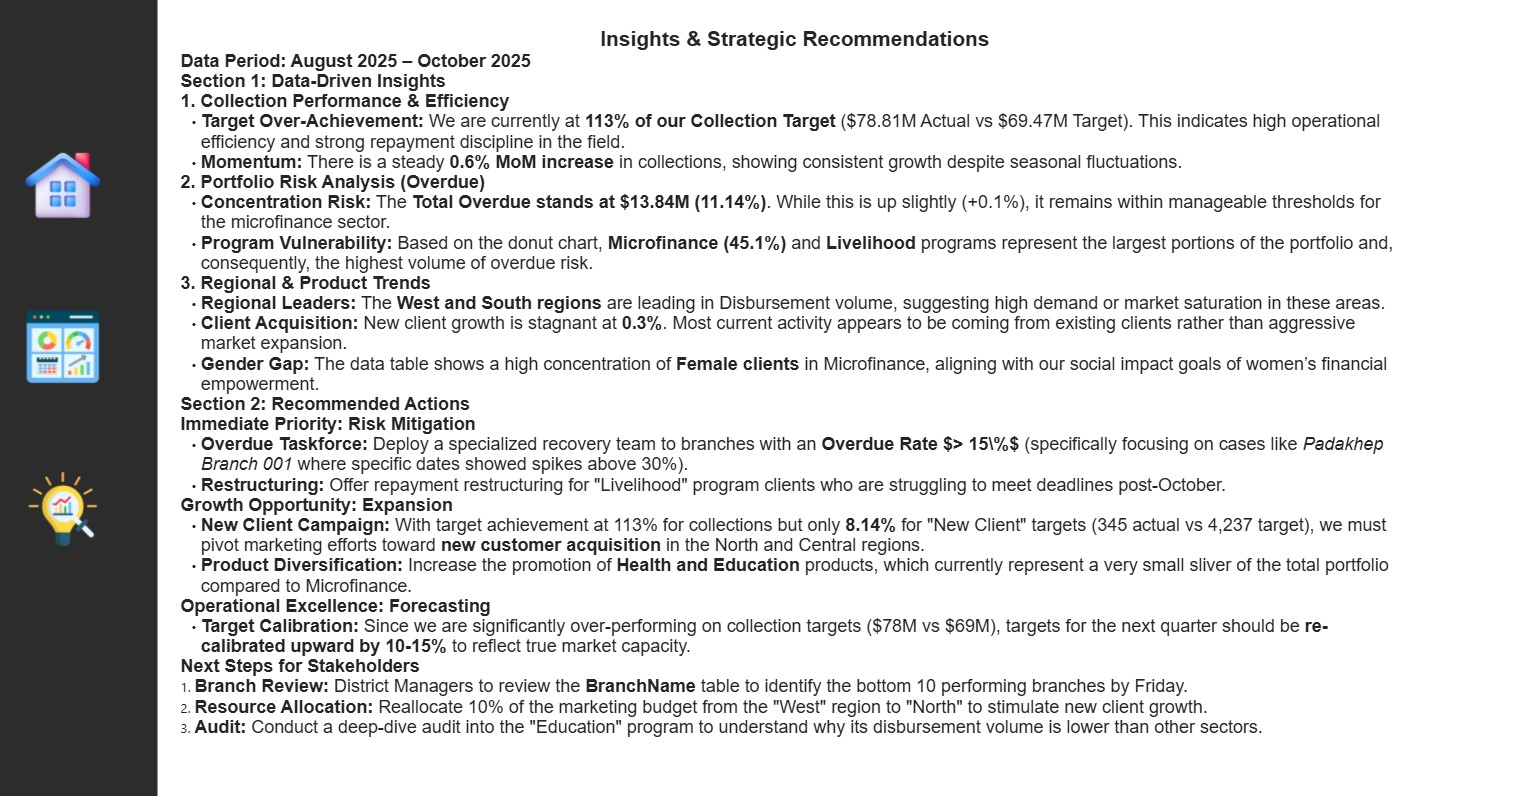

This screenshot's page, from the dashboard's own definition file:
{"tool":"powerbi","page":{"name":"Insights And Actions","canvas":[1280,720],"ordinal":2},"visuals":[{"type":"shape","box":[0,0,145.3,1080],"z":0},{"type":"actionButton","box":[23.1,124.4,74.7,81.8],"z":1000},{"type":"actionButton","box":[23.1,413.3,74.7,81.8],"z":2000},{"type":"actionButton","box":[23.1,256.4,74.7,106.7],"z":3000},{"type":"textbox","box":[160.7,18.9,1106,701.1],"z":4000}]}

Visuals, with their boxes on the page's 1280x720 design canvas (x1, y1, x2, y2). These are canvas units, not pixel positions in the 1523x796 screenshot, which may show the page scaled, cropped or inside an application window:
shape: x1=0, y1=0, x2=145, y2=1080
actionButton: x1=23, y1=124, x2=98, y2=206
actionButton: x1=23, y1=413, x2=98, y2=495
actionButton: x1=23, y1=256, x2=98, y2=363
textbox: x1=161, y1=19, x2=1267, y2=720
